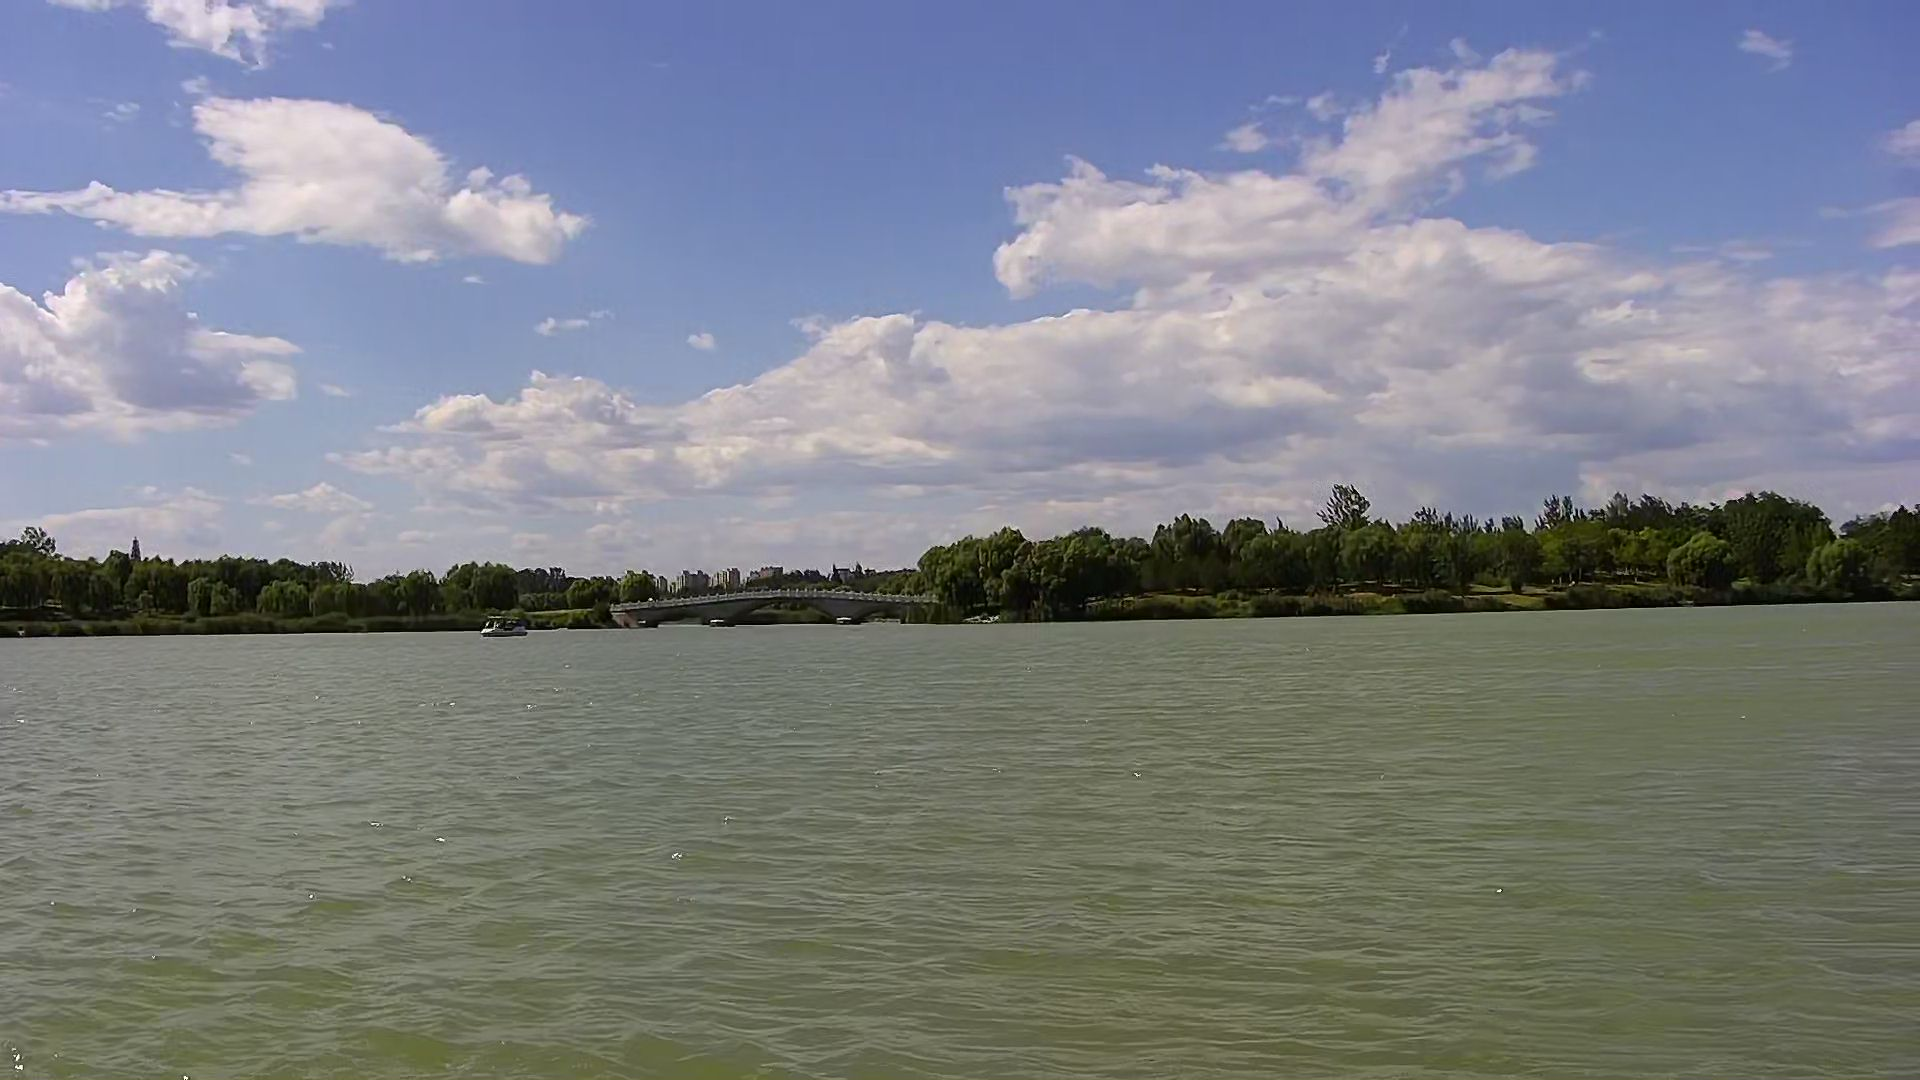boat: (477, 615, 530, 641)
bridge: (621, 587, 928, 625)
